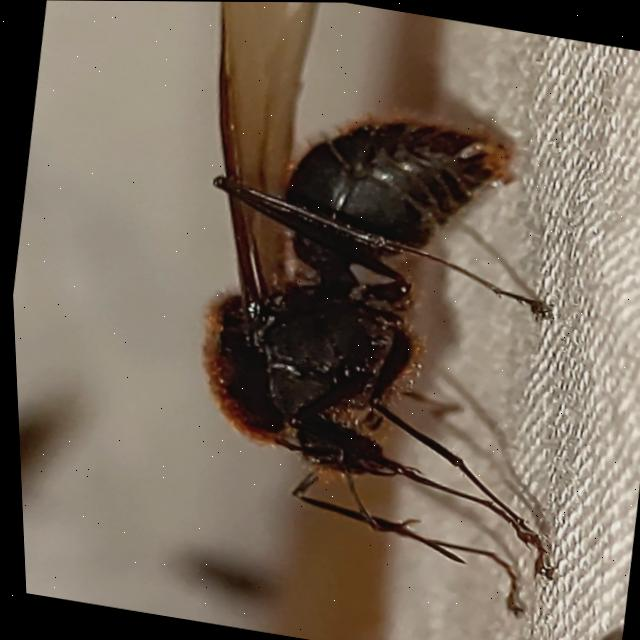Alive-Male-Alate: (129, 1, 640, 627)
